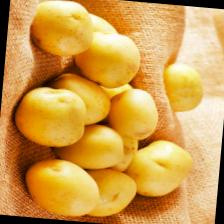potato: (20, 156, 103, 220), (12, 84, 88, 150), (124, 136, 196, 201), (70, 28, 142, 92), (48, 120, 127, 172), (27, 0, 96, 58), (46, 72, 112, 128), (72, 166, 138, 220), (105, 86, 161, 142), (158, 61, 206, 114)
